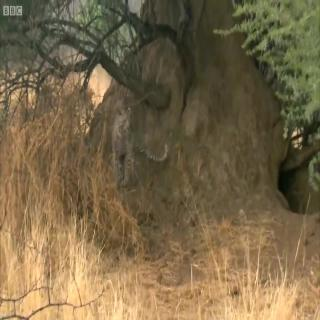Leopard: (84, 49, 180, 211)
